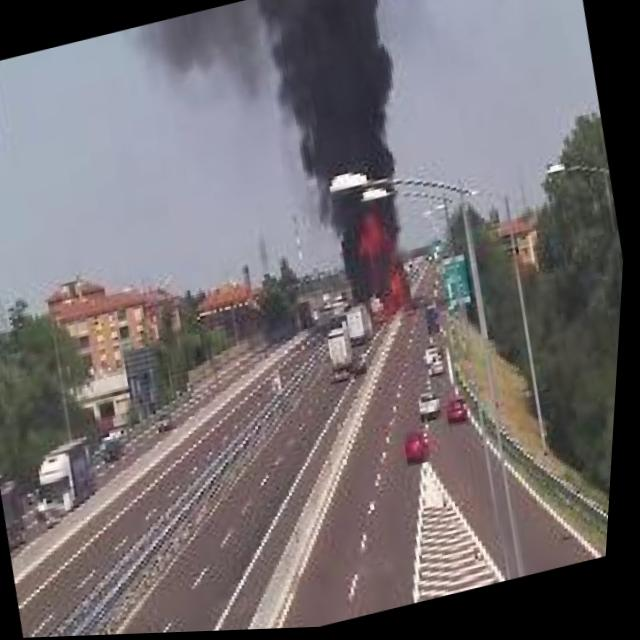fire: (343, 203, 425, 326)
